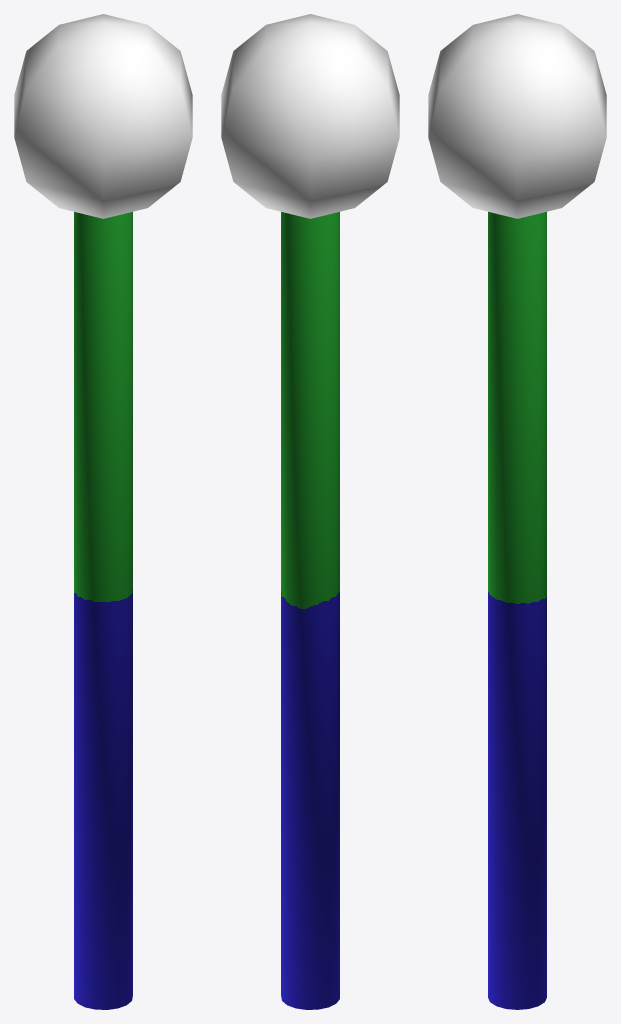
Rendered from achsen.fbx.
The picture shows the model from 3 angles, left to right: view 1: azimuth 30°, elevation 25°; view 2: azimuth 150°, elevation 25°; view 3: azimuth 270°, elevation 25°; orthographic projection.
Visible parts, largest first — view 1: Sphere; view 2: Sphere; view 3: Sphere.
Part boxes in pixels (x1,y1,x2,y2): Sphere: (14,14,192,1009); Sphere: (221,14,399,1009); Sphere: (428,14,606,1009).
Bounding box in the file's own units: 0.6945 × 3.63 × 0.6014.
